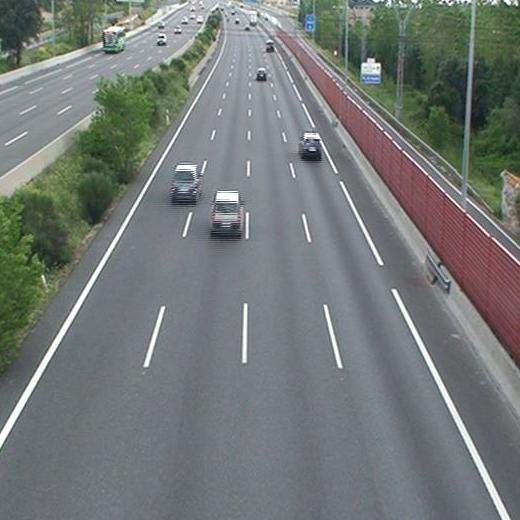car: (211, 192, 242, 235), (171, 166, 200, 200), (300, 133, 321, 156), (255, 69, 266, 79)
van: (266, 40, 275, 54)
